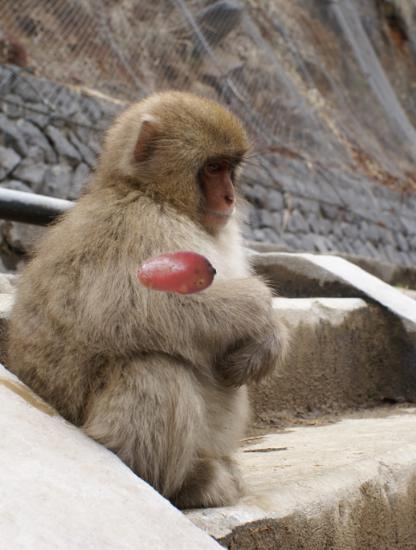Potato: (136, 234, 216, 314)
